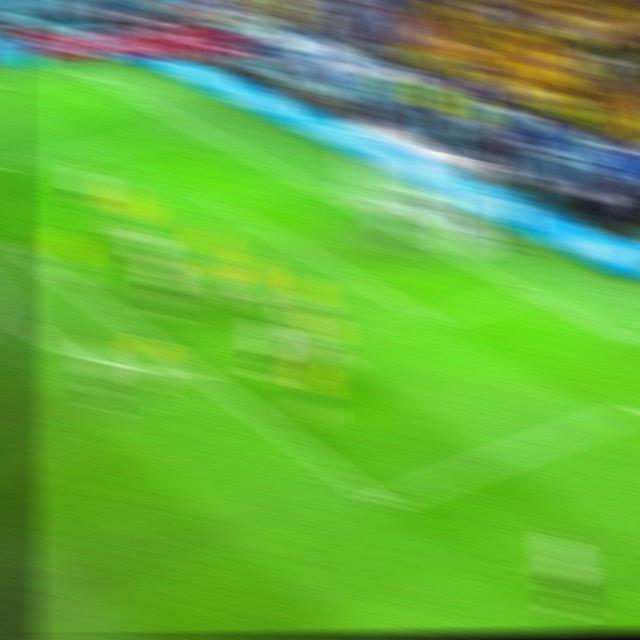bigarea_bottom_inner: (363, 487, 404, 522)
bigarea_top_outter: (181, 116, 213, 139)
bottom_arc_area_intersection: (177, 359, 212, 384)
corner: (70, 66, 100, 81)
smallarea_bottom_inner: (415, 304, 451, 338)
smallarea_bottom_outter: (509, 277, 543, 304)
smallarea_top_inner: (201, 189, 235, 216)
smallarea_top_outter: (286, 170, 318, 193)
top_arc_area_intersection: (19, 248, 54, 274)
